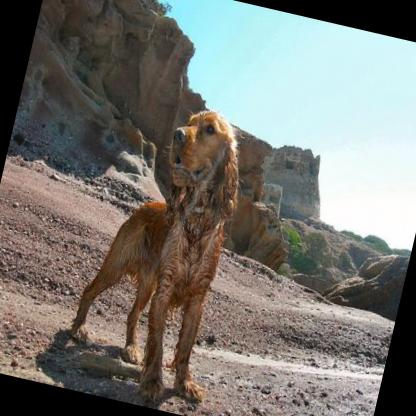cocker_spaniel: (57, 89, 270, 411)
